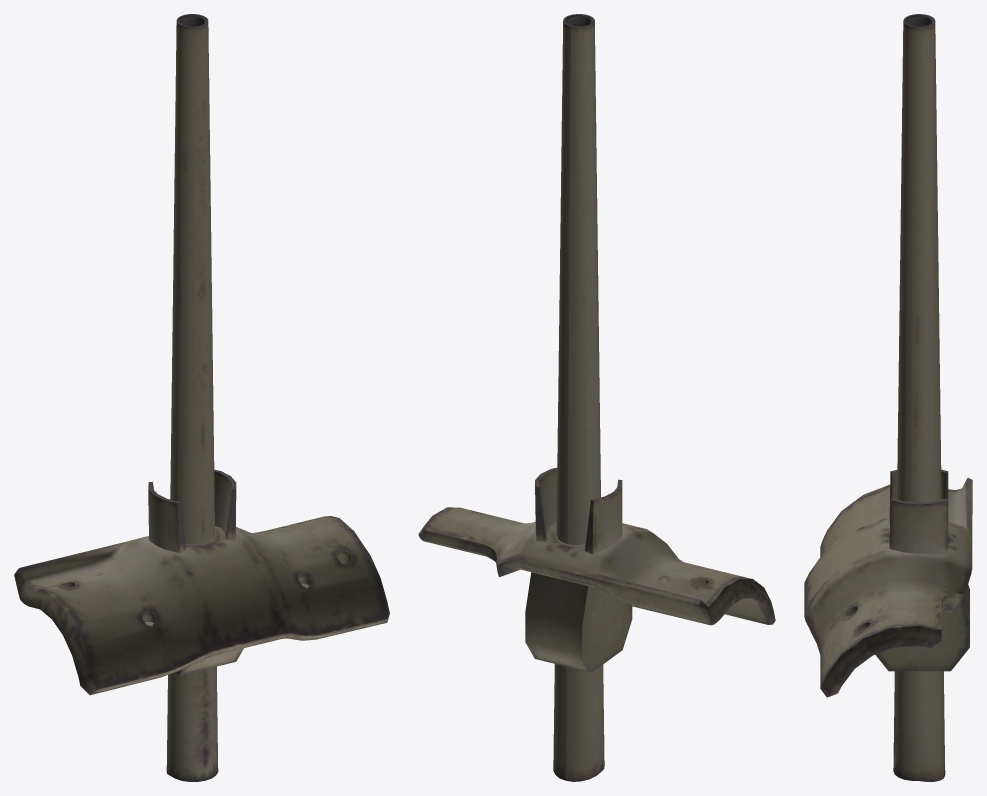
Rendered from Gun_01.glb.
3 views of the same model, side by side, from view 1: azimuth 30°, elevation 25°; view 2: azimuth 150°, elevation 25°; view 3: azimuth 270°, elevation 25° (orthographic).
Visible parts, largest first — view 1: set_0_group_0; view 2: set_0_group_0; view 3: set_0_group_0.
Boxes of the visible parts, x1=… form: set_0_group_0: x1=14, y1=14, x2=389, y2=781; set_0_group_0: x1=418, y1=14, x2=775, y2=781; set_0_group_0: x1=804, y1=14, x2=972, y2=781.
Bounding box in the file's own units: 1.04 × 2.46 × 0.4989.
1 material, 1 textured.
